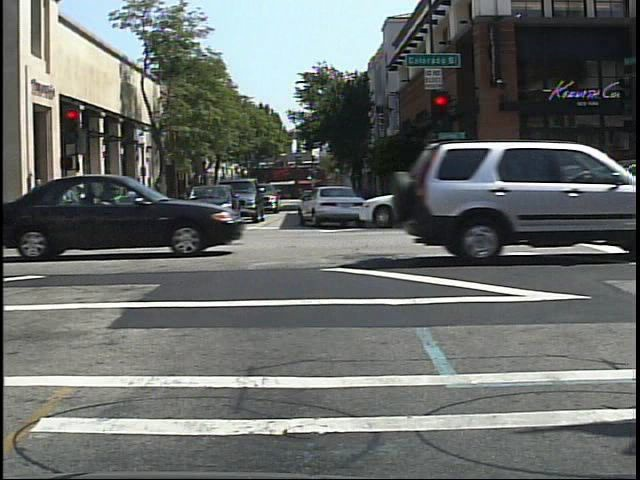person: (121, 181, 141, 225), (135, 181, 150, 218)
